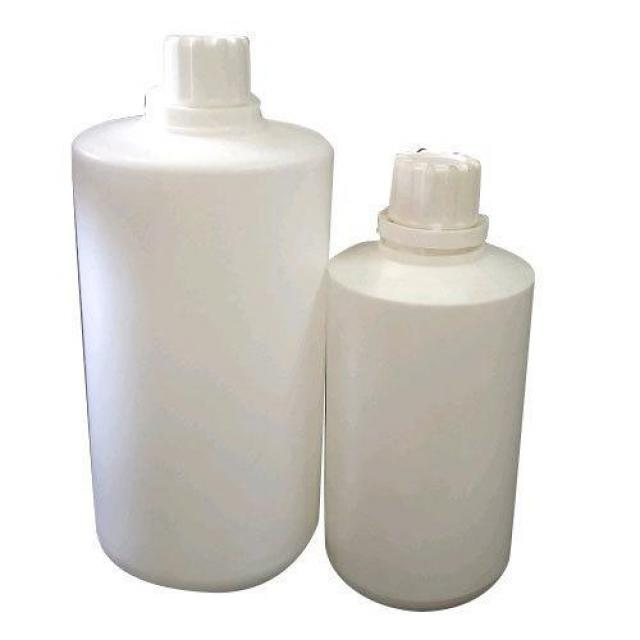plastic_bottle: (67, 20, 337, 600)
